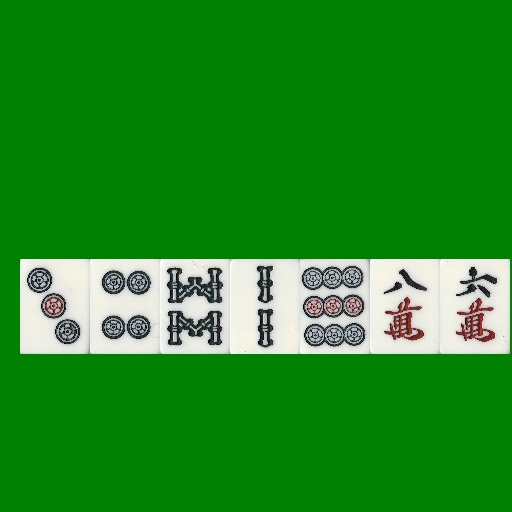2s: (230, 259, 300, 354)
3p: (20, 259, 90, 354)
4p: (90, 259, 160, 354)
6m: (440, 259, 510, 354)
8m: (370, 259, 440, 354)
8s: (160, 259, 230, 354)
9p: (300, 259, 370, 354)
